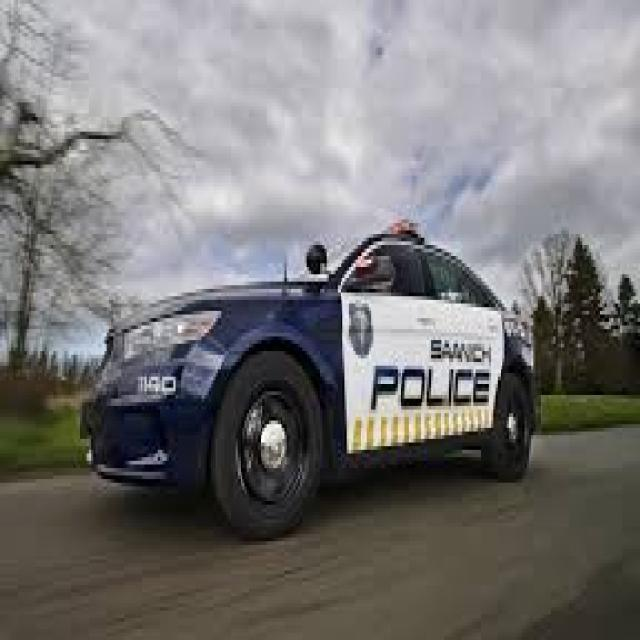Police: (59, 194, 588, 564)
